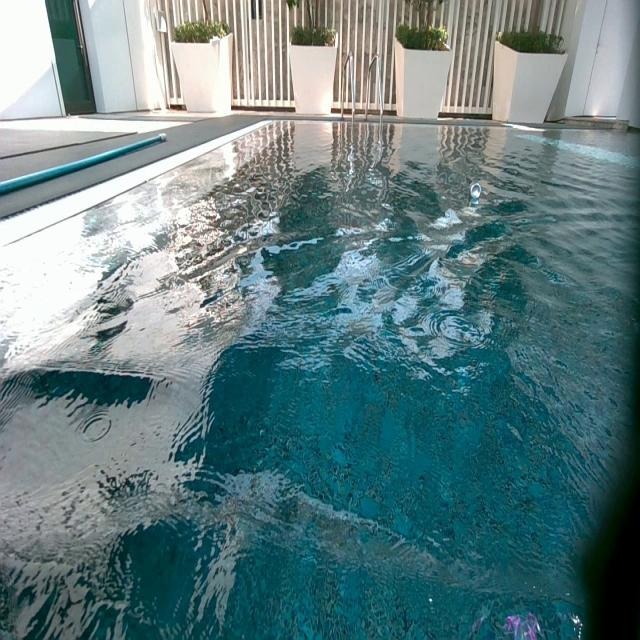Cans: (468, 182, 481, 196)
